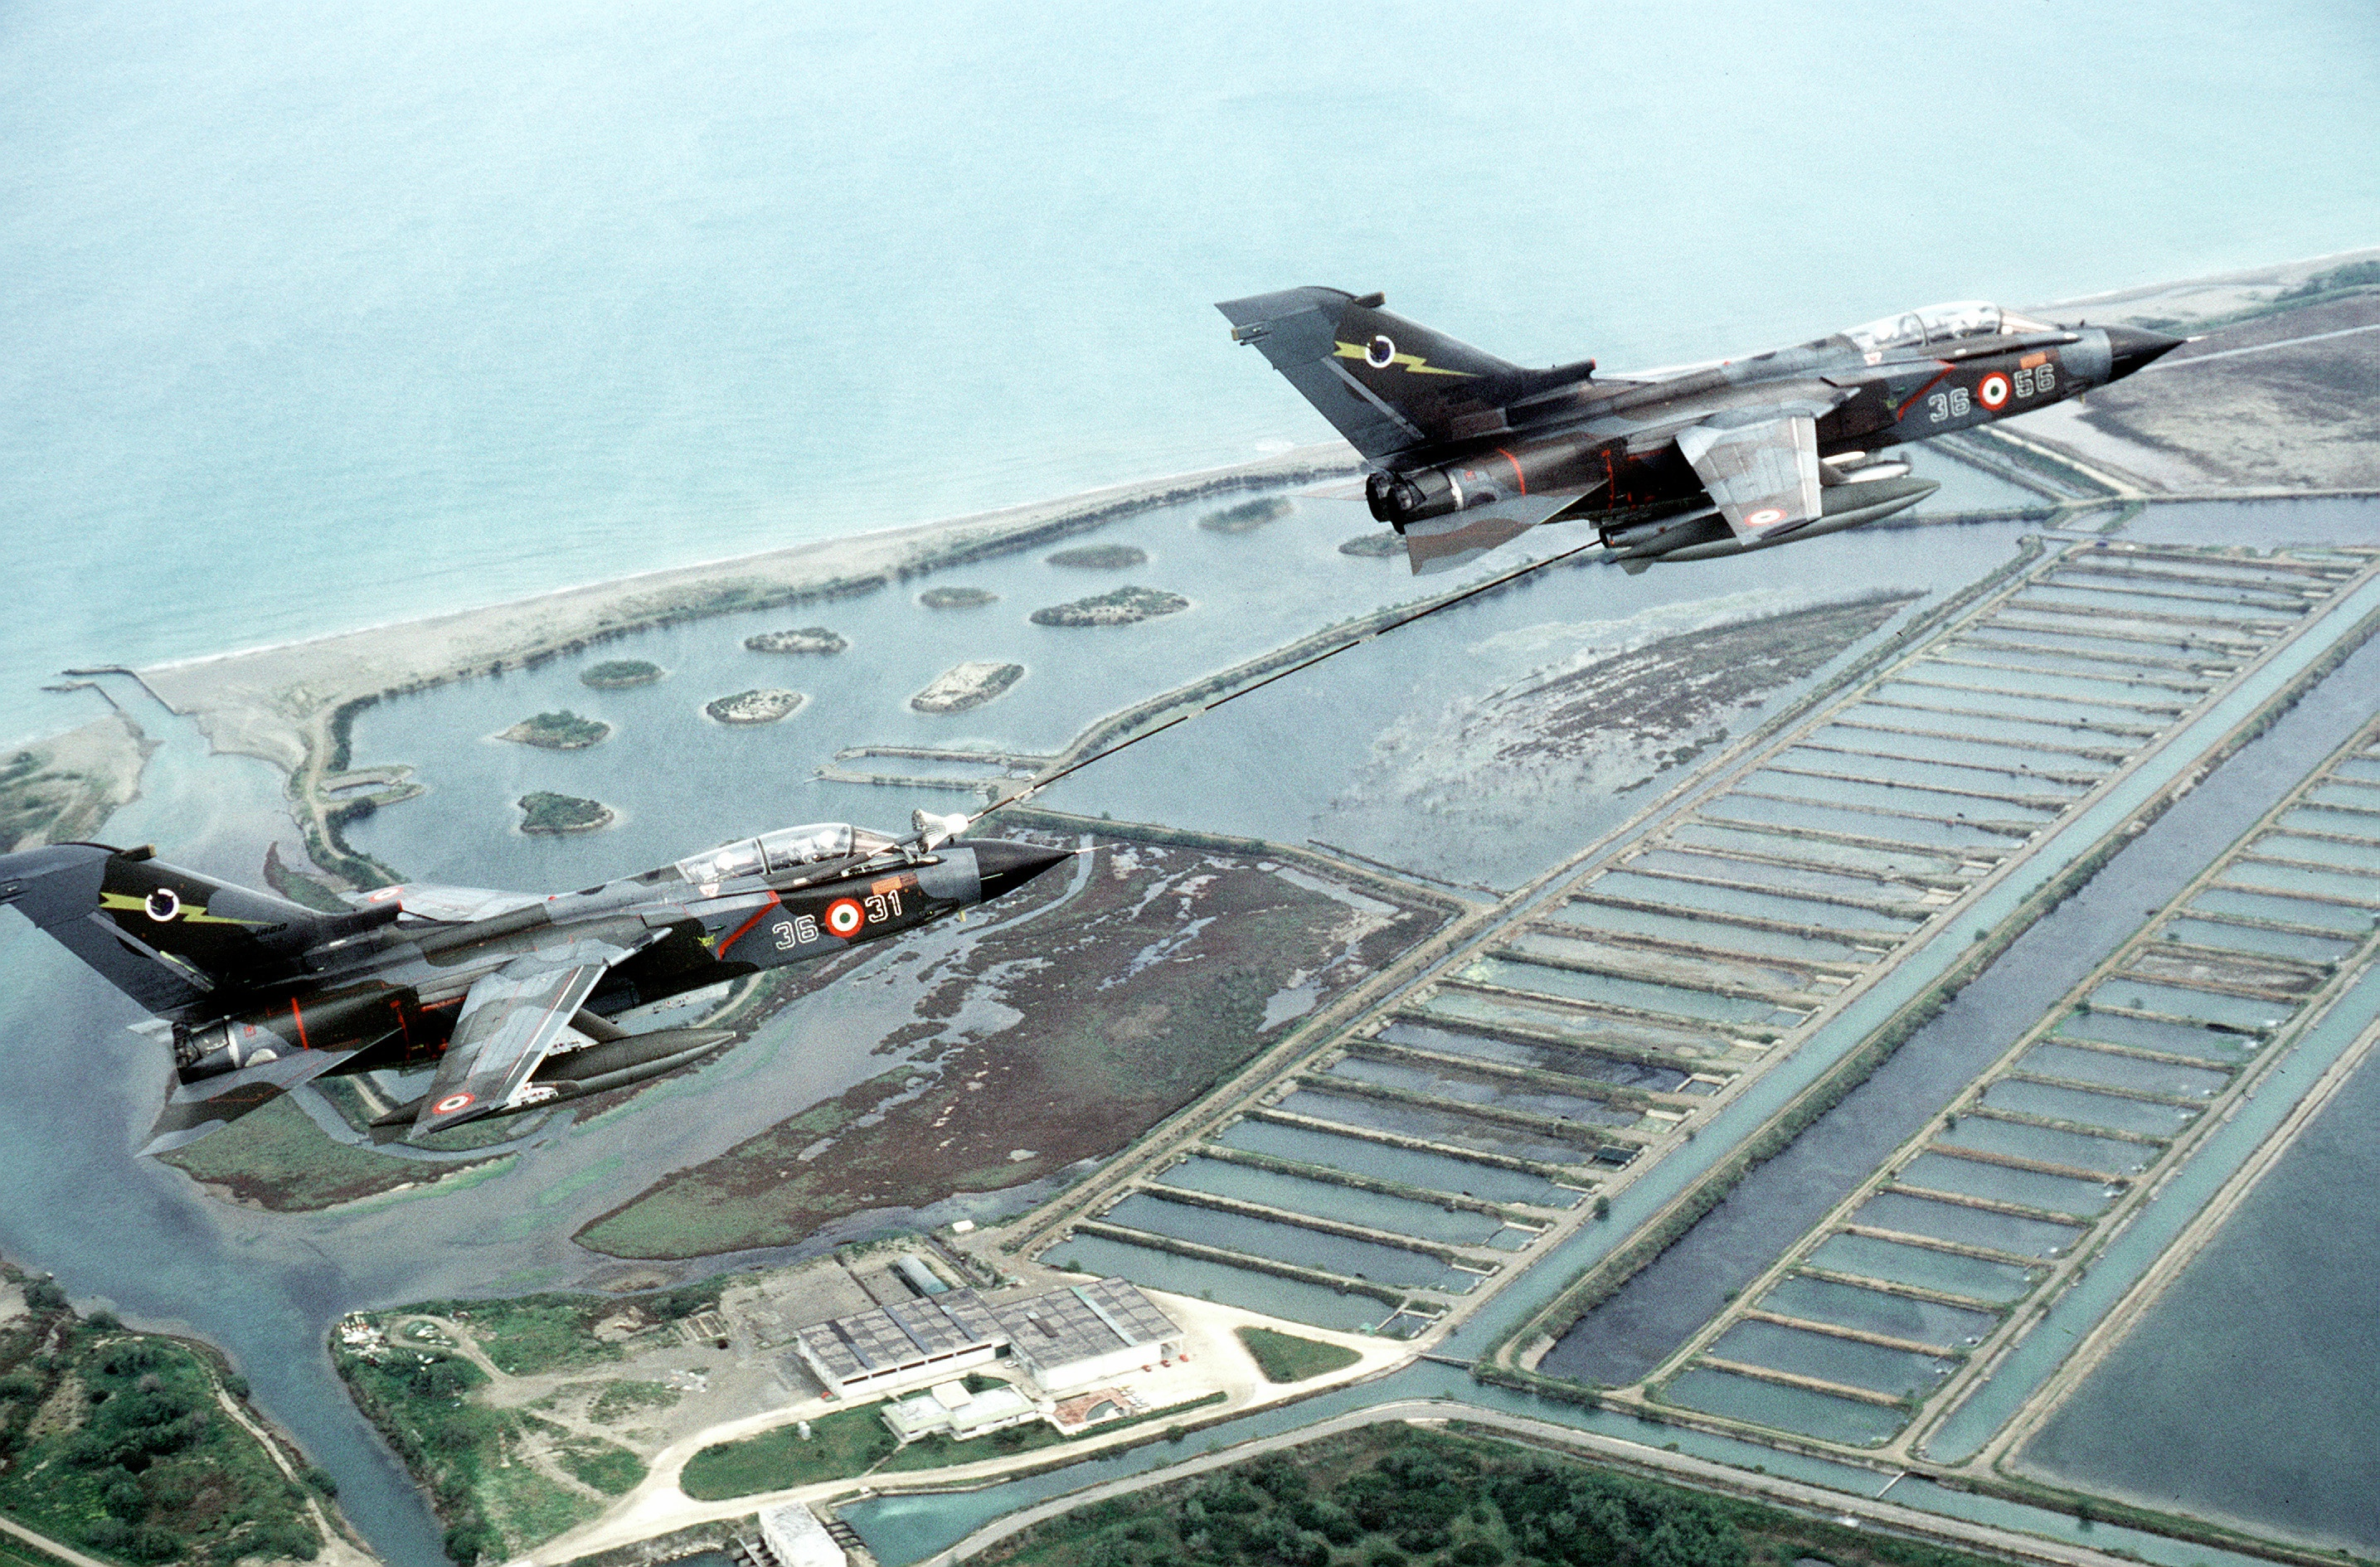Tornado: (0, 822, 1119, 1158), (1212, 285, 2228, 575)
